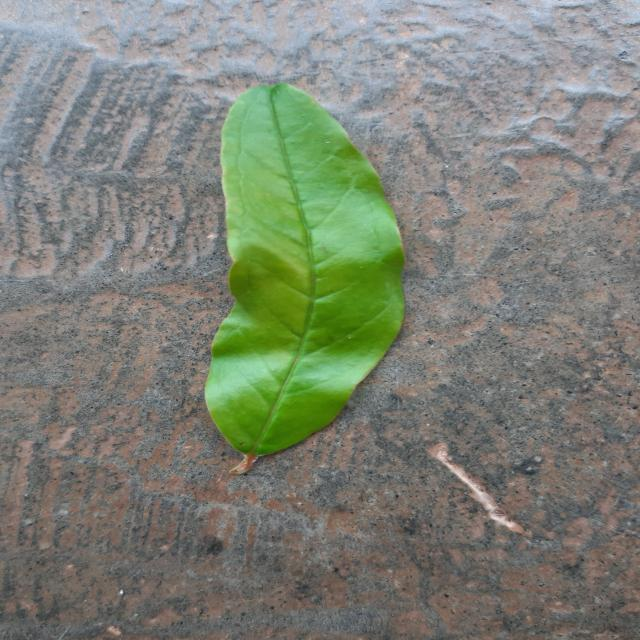pomgranate: (204, 84, 404, 474)
